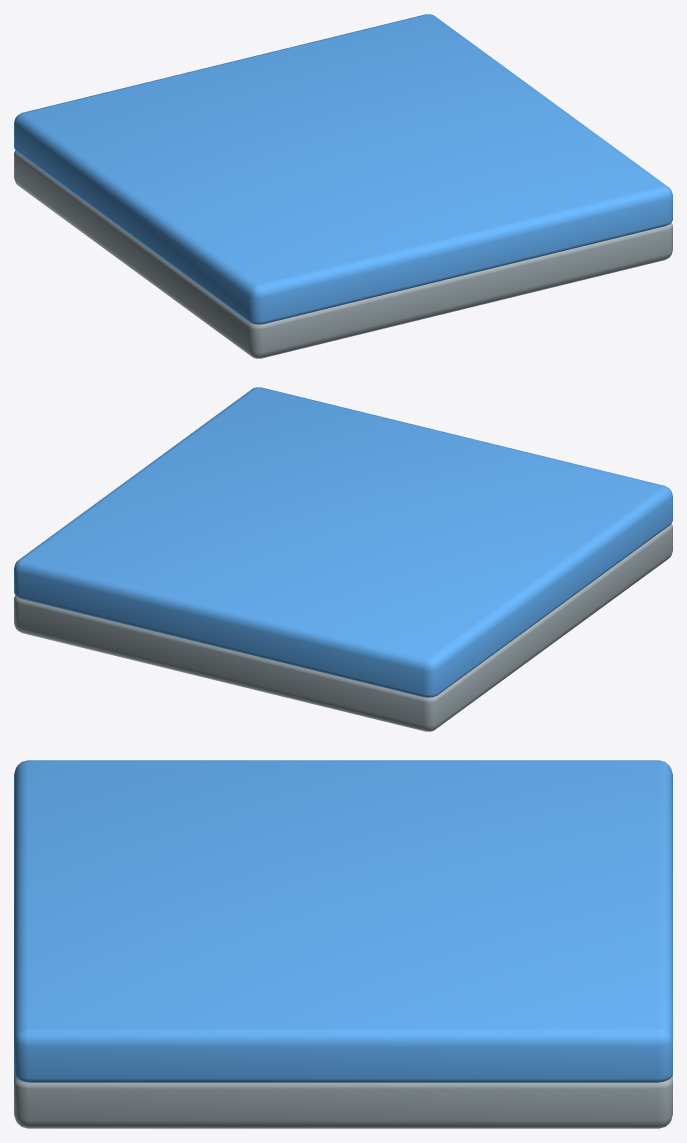
Rendered from tileLarge_teamBlue.glb.
3 views of the same model, one above another, from view 1: azimuth 30°, elevation 25°; view 2: azimuth 150°, elevation 25°; view 3: azimuth 270°, elevation 25° (orthographic). The views are drawn at different scales.
Visible parts, largest first — view 1: tileLarge_teamBlue; view 2: tileLarge_teamBlue; view 3: tileLarge_teamBlue.
Boxes of the visible parts, box(x1,y1,x2,y2) form: tileLarge_teamBlue: box(14, 14, 672, 358); tileLarge_teamBlue: box(14, 387, 672, 731); tileLarge_teamBlue: box(14, 760, 672, 1128).
Bounding box in the file's own units: 1.78 × 0.296 × 1.78.
